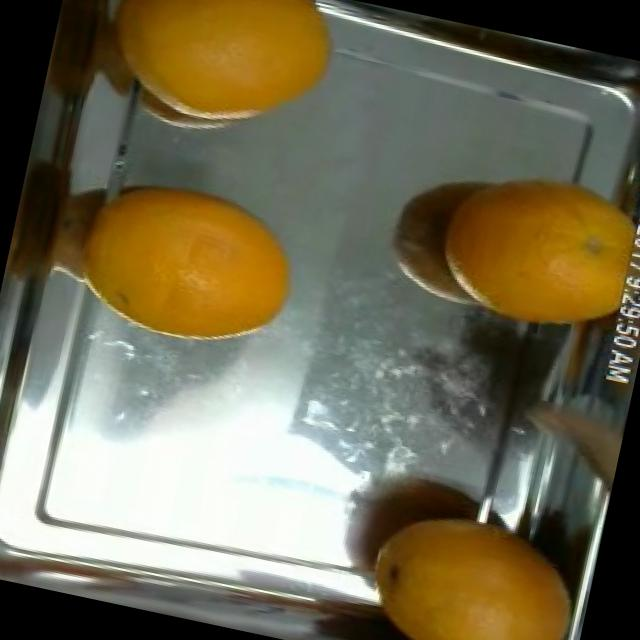Fruit: (405, 133, 640, 349), (94, 161, 320, 372), (366, 494, 601, 640)
